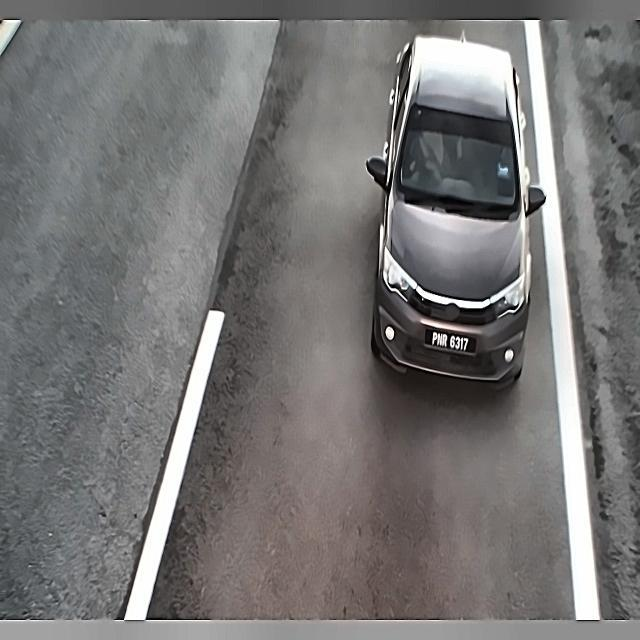car: (419, 324, 481, 362)
